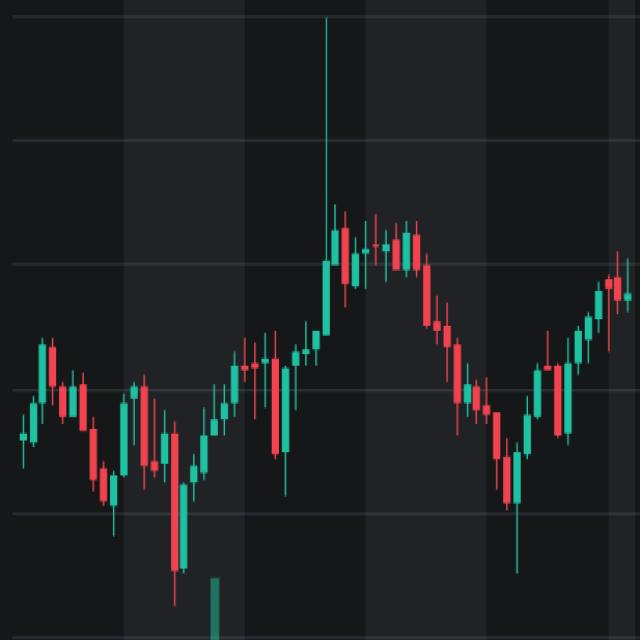Resistance-Emerging: (167, 205, 633, 580)
